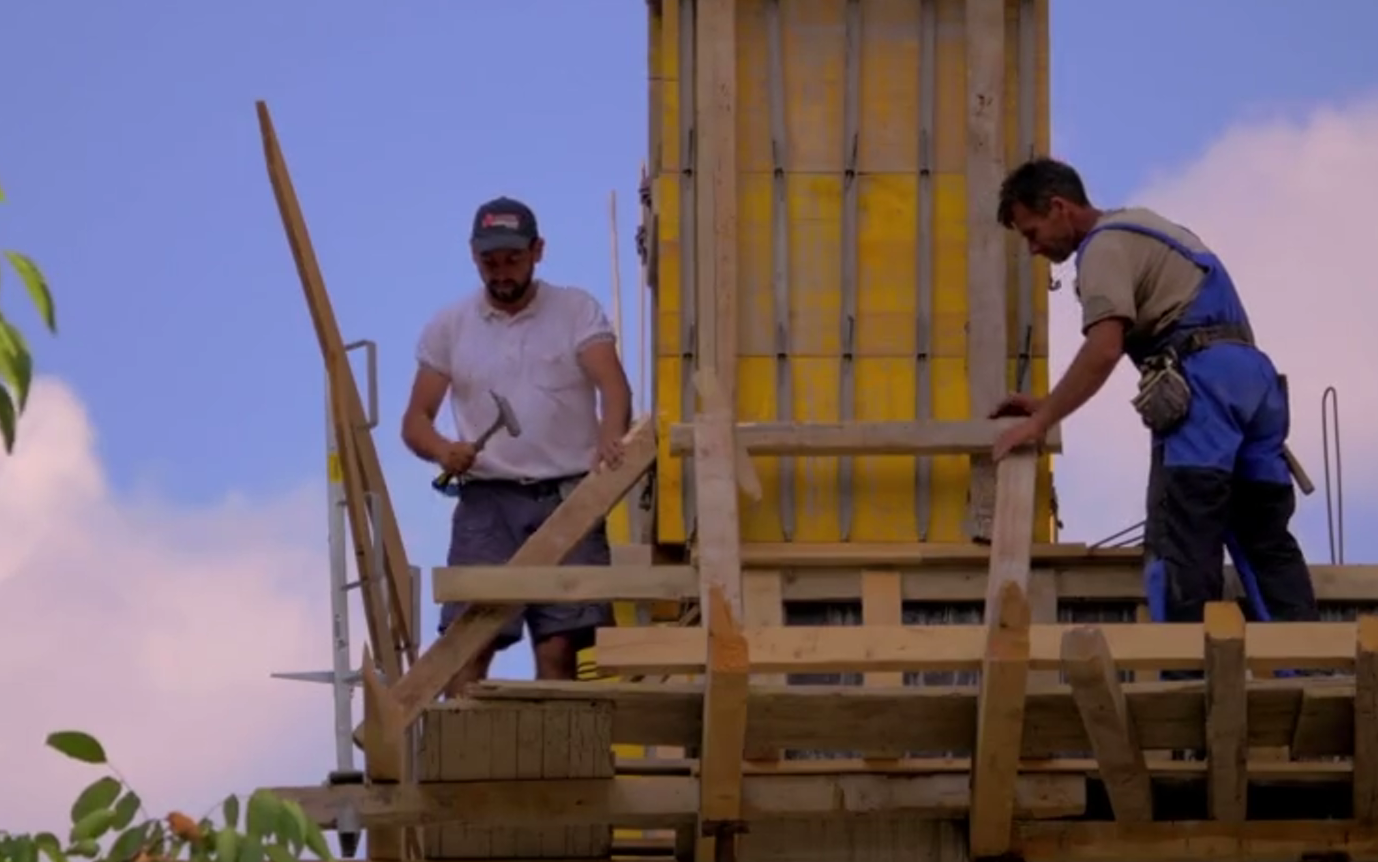safety_helmet: (430, 388, 522, 498), (470, 195, 538, 253)
